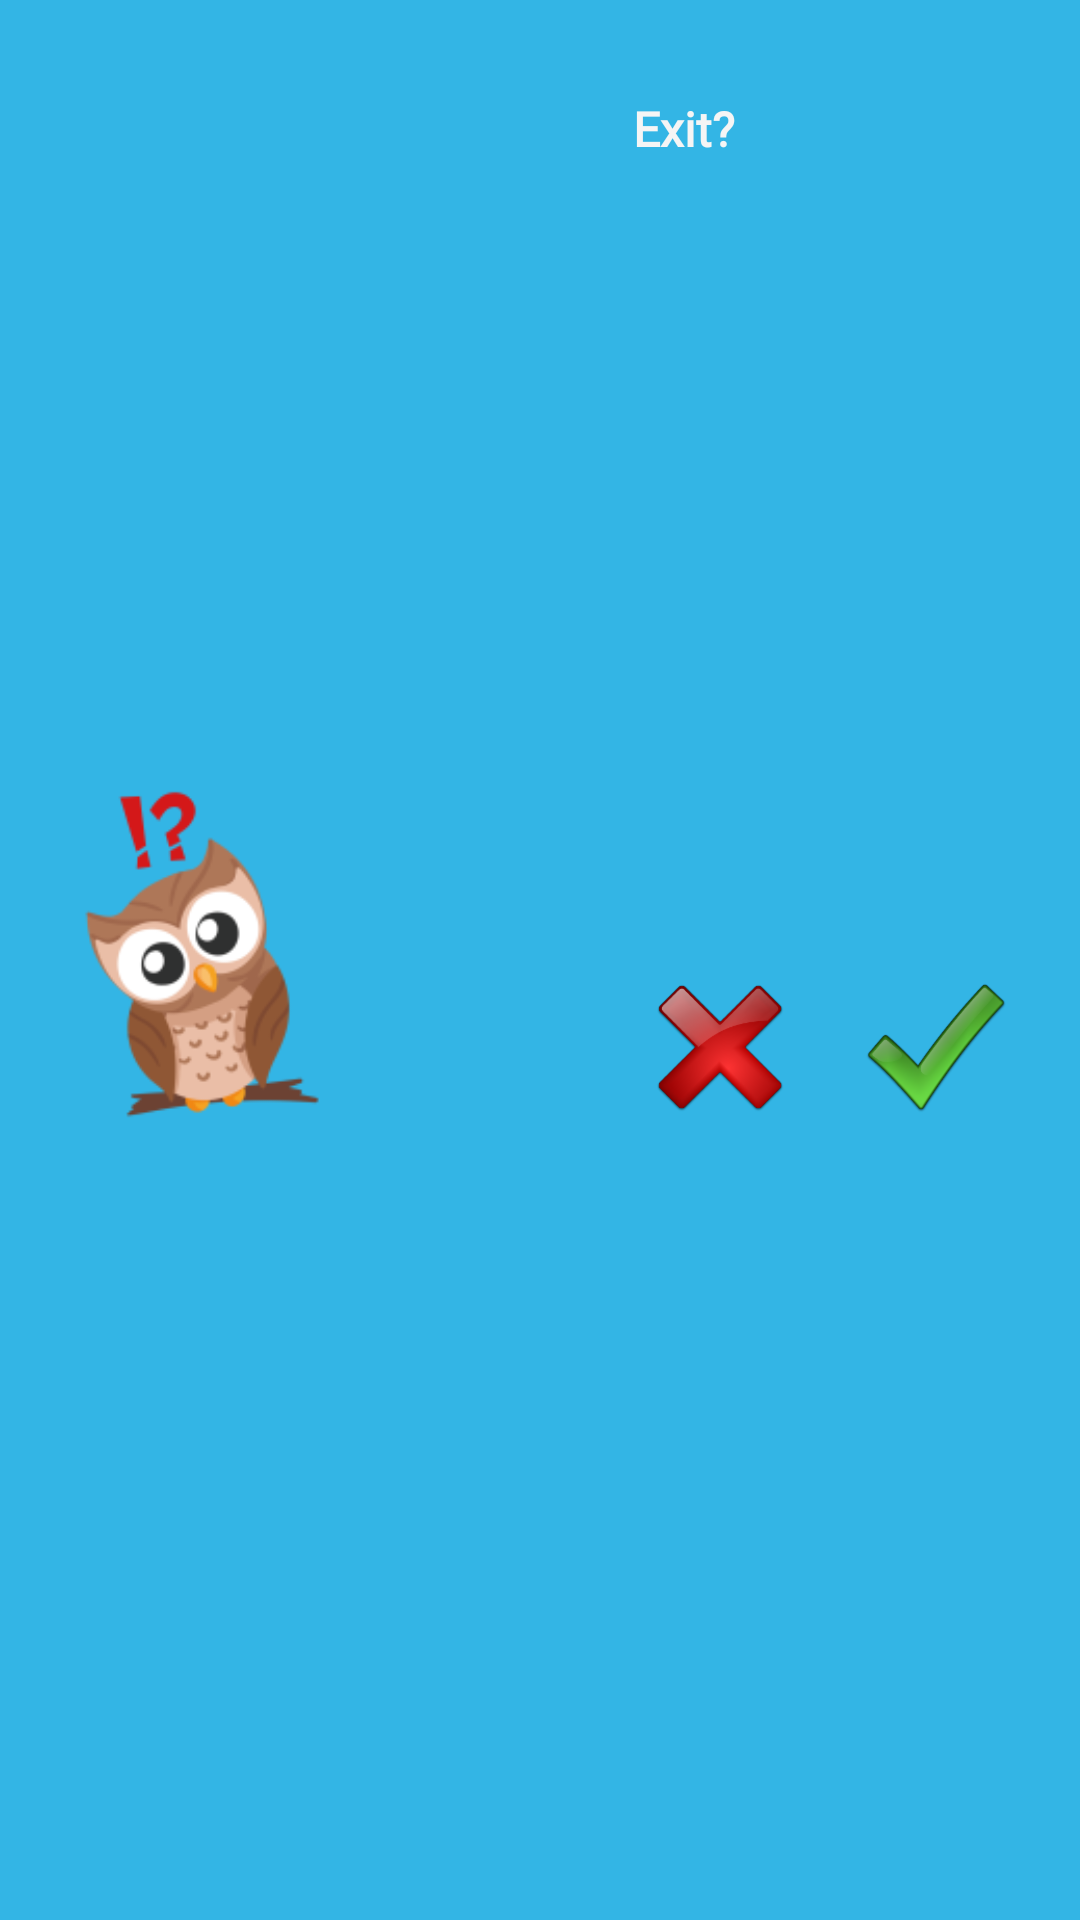

Named icons in this screenshot (1080*1920) and their bounding boxes, (x1, y1, x2, y2):
check: (867, 984, 1005, 1111)
delete: (658, 985, 782, 1110)
question owl: (85, 792, 319, 1117)
